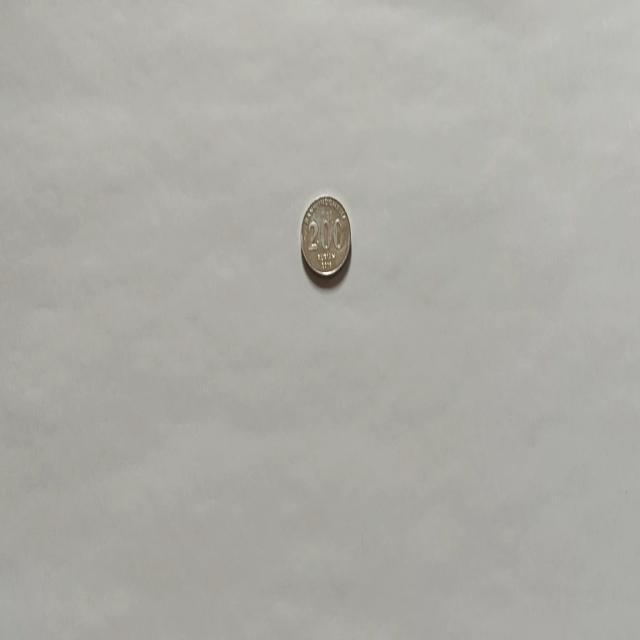dua ratus rupiah: (298, 193, 352, 279)
